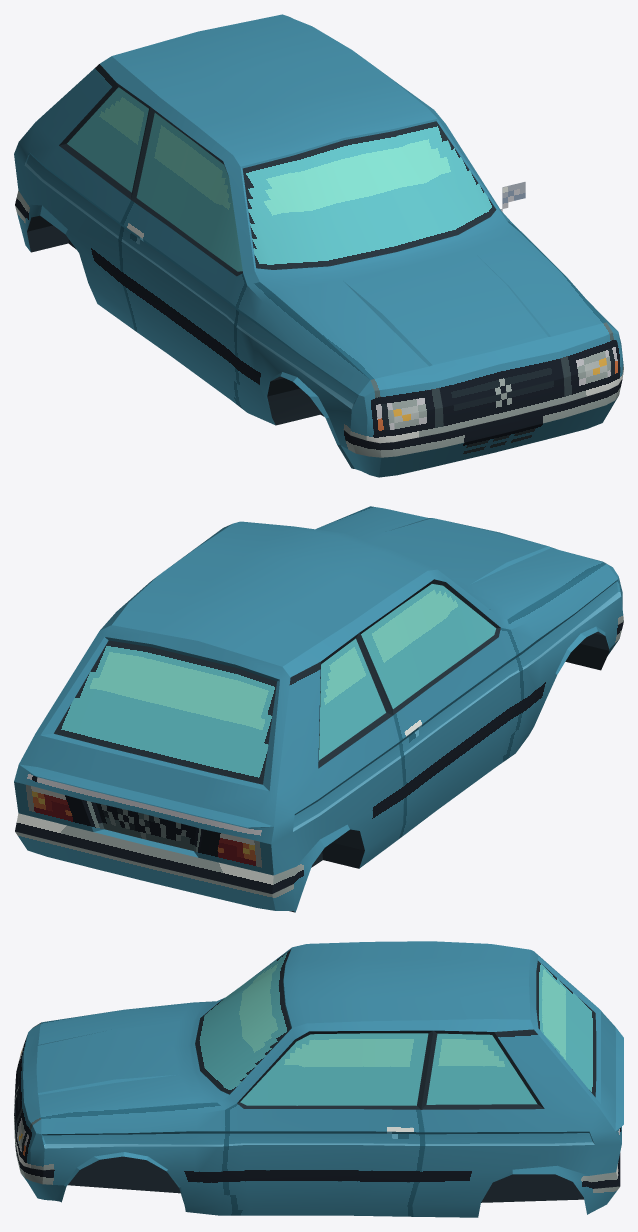
The model's file is citroenLn.glb.
3 renders of one model, top to bottom at view 1: azimuth 30°, elevation 25°; view 2: azimuth 150°, elevation 25°; view 3: azimuth 270°, elevation 25°, orthographic. The views are drawn at different scales.
Parts seen in each view (by area): view 1: BodyCitroenLn; view 2: BodyCitroenLn; view 3: BodyCitroenLn.
Boxes of the visible parts, x1,y1,x2,y2 form: BodyCitroenLn: (14, 14, 623, 477); BodyCitroenLn: (14, 506, 623, 912); BodyCitroenLn: (14, 941, 623, 1217).
Bounding box in the file's own units: 1.67 × 1.16 × 3.38.
Materials: 1 (1 with a texture image).
